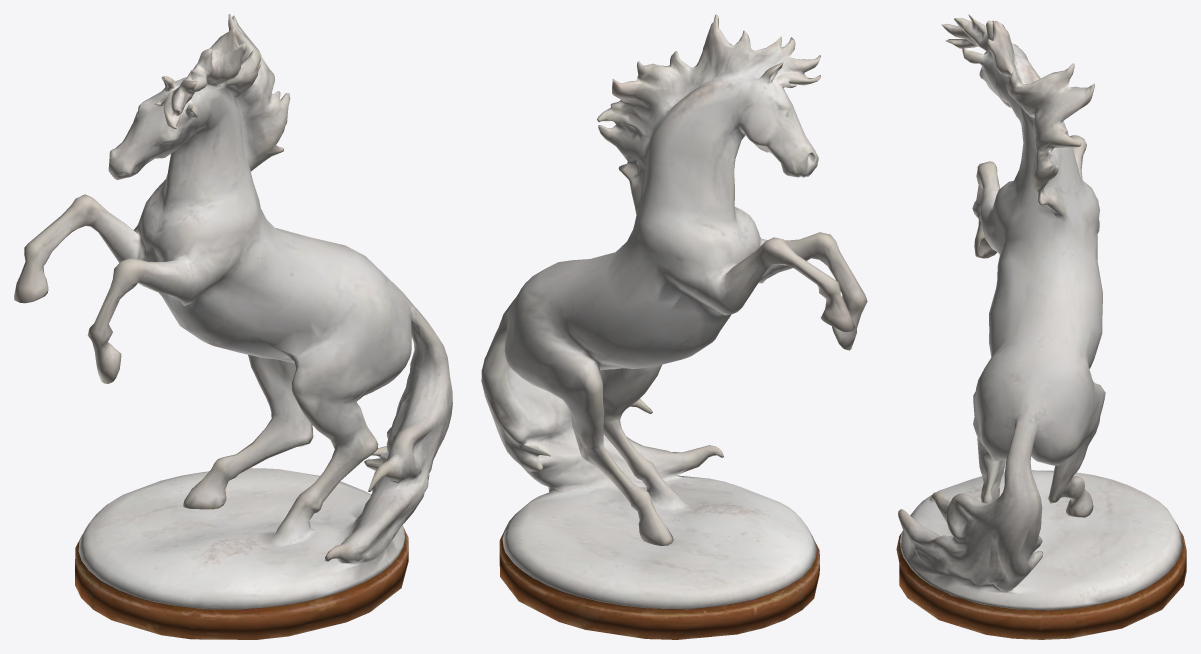
Rendered from horse_statue_01.glb.
The picture shows the model from 3 angles, left to right: view 1: azimuth 30°, elevation 25°; view 2: azimuth 150°, elevation 25°; view 3: azimuth 270°, elevation 25°; orthographic projection. The views are drawn at different scales.
Visible parts, largest first — view 1: horse_statue_01; view 2: horse_statue_01; view 3: horse_statue_01.
Part boxes in pixels (x1,y1,x2,y2): horse_statue_01: [14, 14, 452, 639]; horse_statue_01: [481, 14, 867, 639]; horse_statue_01: [896, 14, 1186, 639].
Size of the model in its own units: 0.1638 by 0.22 by 0.1078.
Materials: 1 (1 with a texture image).
